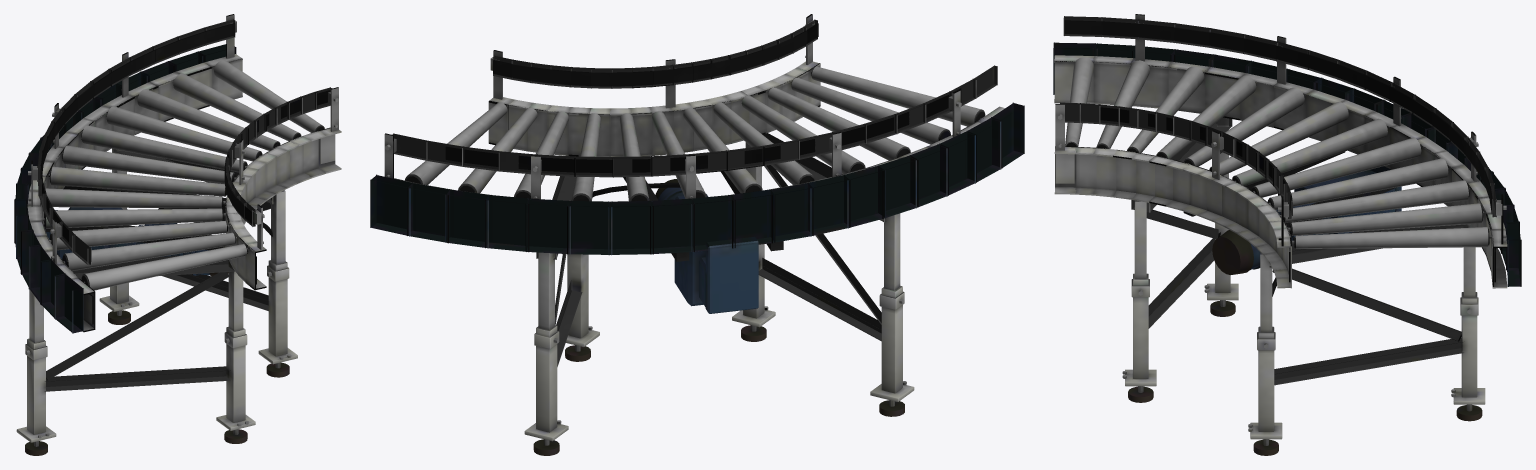
File: conveyor-roller-curve-v1-lod0.glb
The picture shows the model from 3 angles, left to right: view 1: azimuth 30°, elevation 25°; view 2: azimuth 150°, elevation 25°; view 3: azimuth 270°, elevation 25°; orthographic projection. The views are drawn at different scales.
Parts seen in each view (by area): view 1: module_curve_mesh, curve_roller_07_mesh, curve_roller_08_mesh, curve_roller_06_mesh, curve_roller_09_mesh, curve_roller_12_mesh, curve_roller_11_mesh, curve_roller_05_mesh, curve_roller_10_mesh, curve_roller_04_mesh, curve_roller_03_mesh, curve_roller_02_mesh (+1 smaller); view 2: module_curve_mesh, curve_roller_12_mesh, curve_roller_11_mesh, curve_roller_10_mesh, curve_roller_09_mesh, curve_roller_08_mesh, curve_roller_01_mesh, curve_roller_02_mesh, curve_roller_07_mesh, curve_roller_05_mesh, curve_roller_04_mesh, curve_roller_03_mesh (+1 smaller); view 3: module_curve_mesh, curve_roller_01_mesh, curve_roller_02_mesh, curve_roller_03_mesh, curve_roller_04_mesh, curve_roller_05_mesh, curve_roller_06_mesh, curve_roller_07_mesh, curve_roller_08_mesh, curve_roller_09_mesh, curve_roller_10_mesh, curve_roller_11_mesh (+1 smaller).
Boxes of the visible parts, x1=… form: module_curve_mesh: x1=14, y1=14, x2=341, y2=455; curve_roller_07_mesh: x1=48, y1=166, x2=227, y2=196; curve_roller_08_mesh: x1=45, y1=188, x2=225, y2=208; curve_roller_06_mesh: x1=62, y1=145, x2=236, y2=183; curve_roller_09_mesh: x1=42, y1=208, x2=225, y2=228; curve_roller_12_mesh: x1=81, y1=244, x2=248, y2=290; curve_roller_11_mesh: x1=62, y1=232, x2=237, y2=270; curve_roller_05_mesh: x1=81, y1=125, x2=247, y2=172; curve_roller_10_mesh: x1=49, y1=221, x2=229, y2=250; curve_roller_04_mesh: x1=106, y1=106, x2=262, y2=161; curve_roller_03_mesh: x1=137, y1=89, x2=280, y2=150; curve_roller_02_mesh: x1=173, y1=73, x2=301, y2=141; module_curve_mesh: x1=370, y1=14, x2=1024, y2=455; curve_roller_12_mesh: x1=811, y1=66, x2=985, y2=126; curve_roller_11_mesh: x1=791, y1=77, x2=950, y2=144; curve_roller_10_mesh: x1=768, y1=87, x2=910, y2=160; curve_roller_09_mesh: x1=741, y1=95, x2=865, y2=173; curve_roller_08_mesh: x1=713, y1=102, x2=815, y2=185; curve_roller_01_mesh: x1=405, y1=102, x2=507, y2=185; curve_roller_02_mesh: x1=458, y1=108, x2=537, y2=193; curve_roller_07_mesh: x1=683, y1=108, x2=762, y2=193; curve_roller_05_mesh: x1=619, y1=113, x2=649, y2=201; curve_roller_04_mesh: x1=571, y1=113, x2=600, y2=201; curve_roller_03_mesh: x1=514, y1=111, x2=568, y2=198; module_curve_mesh: x1=1053, y1=14, x2=1521, y2=455; curve_roller_01_mesh: x1=1291, y1=227, x2=1491, y2=248; curve_roller_02_mesh: x1=1288, y1=203, x2=1484, y2=235; curve_roller_03_mesh: x1=1280, y1=180, x2=1469, y2=222; curve_roller_04_mesh: x1=1268, y1=158, x2=1448, y2=209; curve_roller_05_mesh: x1=1251, y1=137, x2=1421, y2=197; curve_roller_06_mesh: x1=1232, y1=118, x2=1387, y2=185; curve_roller_07_mesh: x1=1209, y1=102, x2=1348, y2=175; curve_roller_08_mesh: x1=1184, y1=87, x2=1304, y2=166; curve_roller_09_mesh: x1=1156, y1=75, x2=1256, y2=158; curve_roller_10_mesh: x1=1127, y1=66, x2=1204, y2=152; curve_roller_11_mesh: x1=1096, y1=60, x2=1149, y2=148.
Bounding box in the file's own units: 1.47 × 0.995 × 1.47.
Materials: 1 (1 with a texture image).
